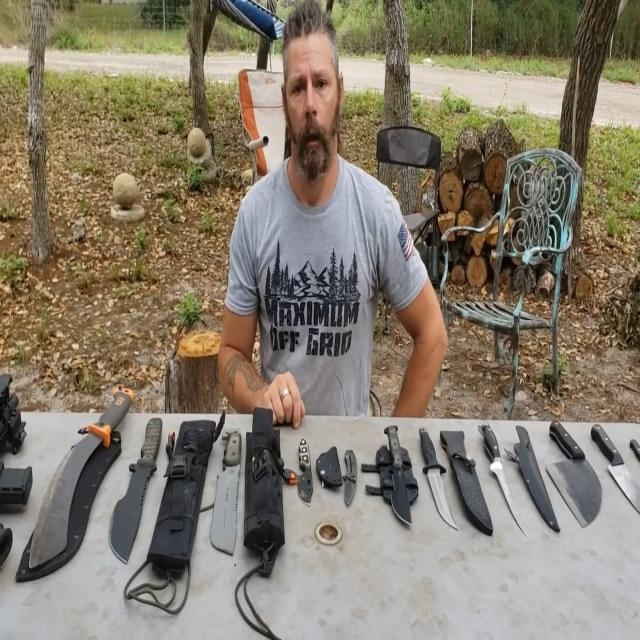knife: (23, 389, 128, 574), (104, 393, 172, 571), (534, 416, 603, 526), (474, 416, 531, 530), (209, 419, 254, 555), (592, 419, 640, 517), (415, 421, 460, 522), (381, 418, 415, 522), (292, 429, 316, 512), (336, 435, 363, 506)
